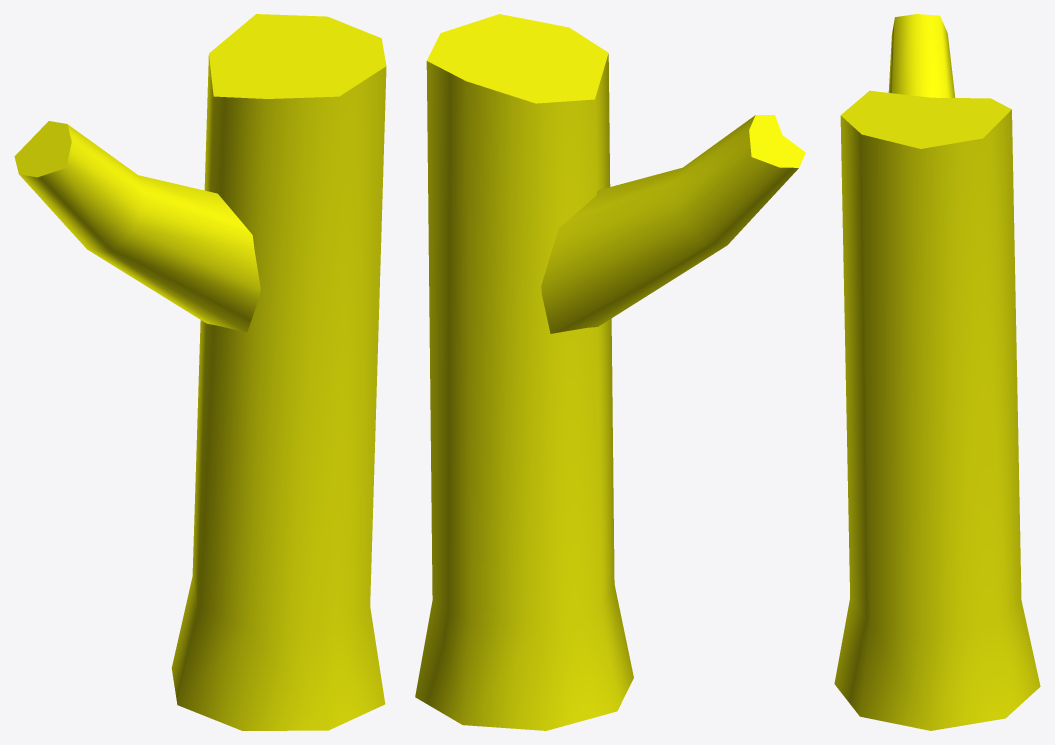
File: forest_log_1.glb
3 renders of one model, left to right at view 1: azimuth 30°, elevation 25°; view 2: azimuth 150°, elevation 25°; view 3: azimuth 270°, elevation 25°, orthographic. The views are drawn at different scales.
Parts seen in each view (by area): view 1: Cylinder.016, Cylinder.018; view 2: Cylinder.016, Cylinder.018; view 3: Cylinder.016, Cylinder.018.
Part boxes in pixels (x1,y1,x2,y2): Cylinder.016: [171, 14, 386, 730]; Cylinder.018: [14, 121, 260, 332]; Cylinder.016: [415, 14, 633, 730]; Cylinder.018: [541, 115, 805, 333]; Cylinder.016: [834, 90, 1040, 730]; Cylinder.018: [888, 14, 955, 97].
Bounding box in the file's own units: 0.6723 × 1.12 × 0.3581.
Materials: 2 (2 with a texture image).
